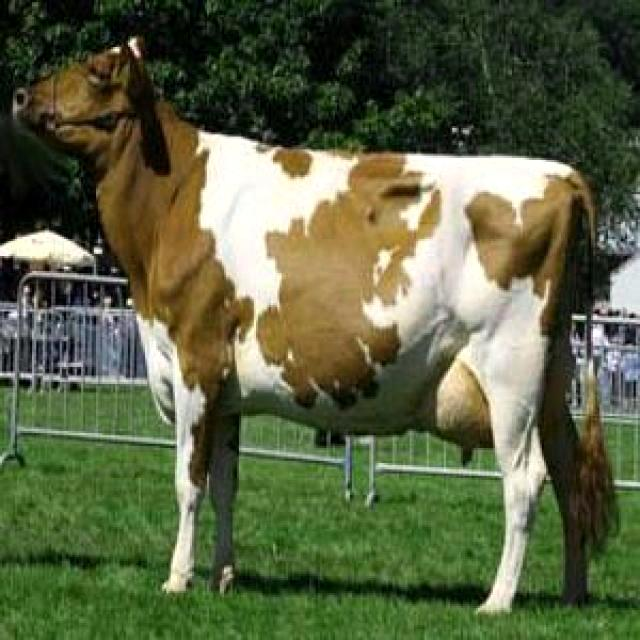COW: (25, 44, 594, 612)
